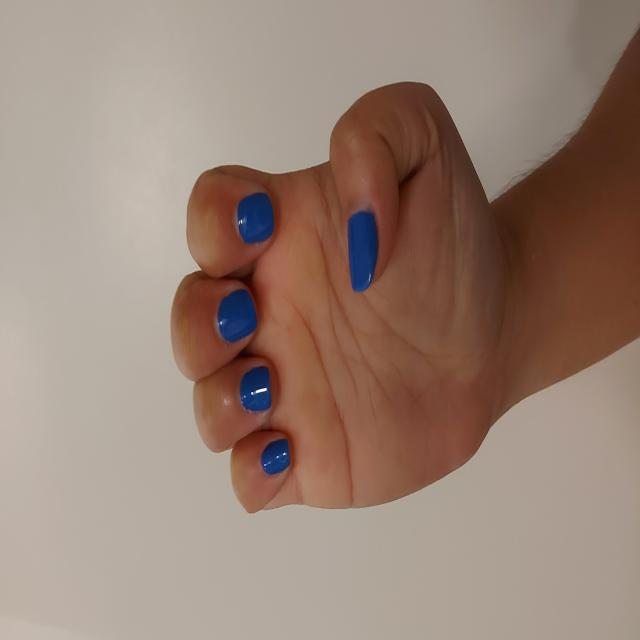E: (125, 169, 560, 506)
